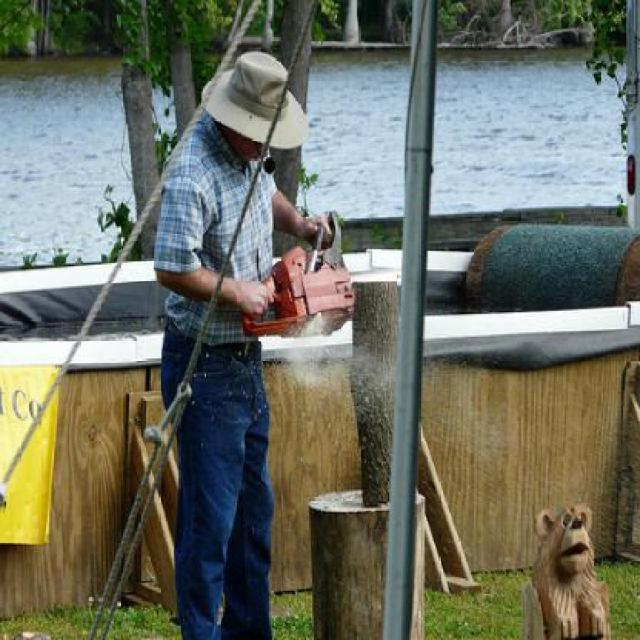Chainsaw: (239, 212, 361, 338)
